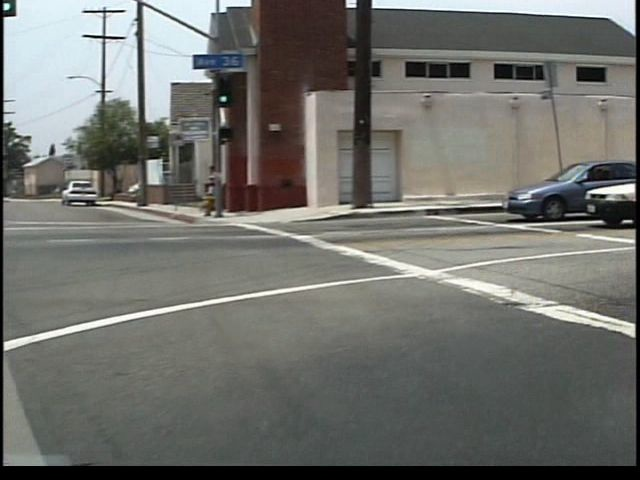person: (212, 165, 233, 215)
